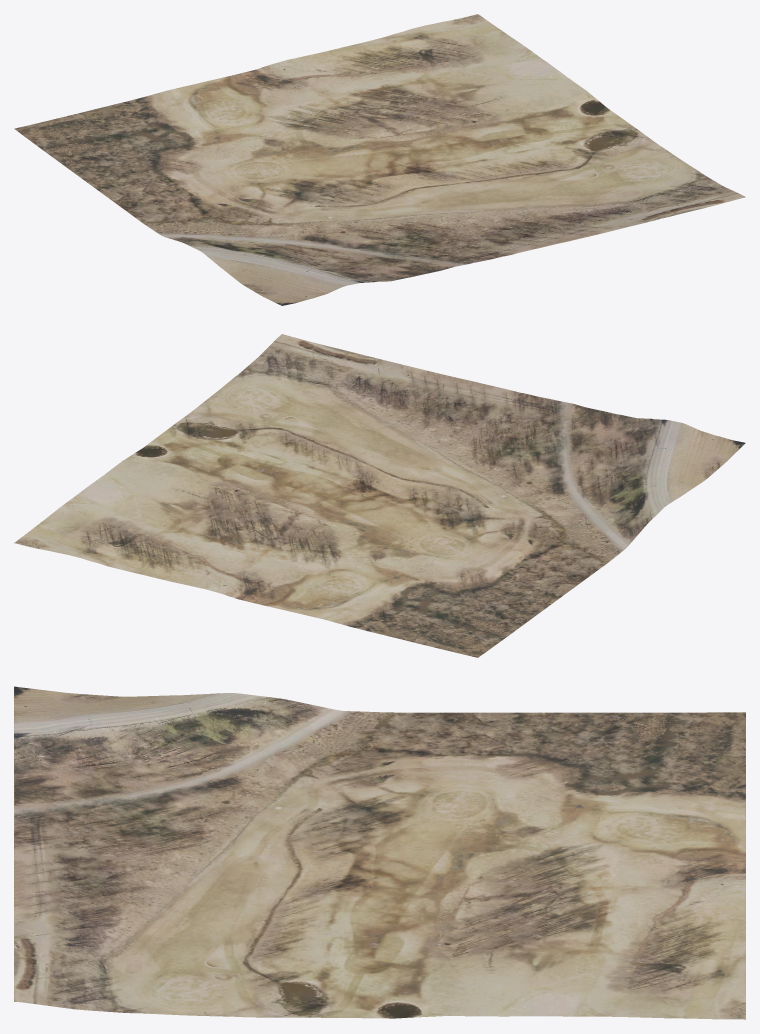
File: CM_Terrain_24491073_6818975.fbx
3 renders of one model, top to bottom at view 1: azimuth 30°, elevation 25°; view 2: azimuth 150°, elevation 25°; view 3: azimuth 270°, elevation 25°, orthographic. The views are drawn at different scales.
Visible parts, largest first — view 1: CM_Terrain_24491073_6818975_LOD0; view 2: CM_Terrain_24491073_6818975_LOD0; view 3: CM_Terrain_24491073_6818975_LOD0.
Part boxes in pixels (x1,y1,x2,y2): CM_Terrain_24491073_6818975_LOD0: (14,14,745,305); CM_Terrain_24491073_6818975_LOD0: (14,334,745,657); CM_Terrain_24491073_6818975_LOD0: (14,686,745,1019).
Size of what is drawn, in the model's own units: 205 by 10 by 205.
